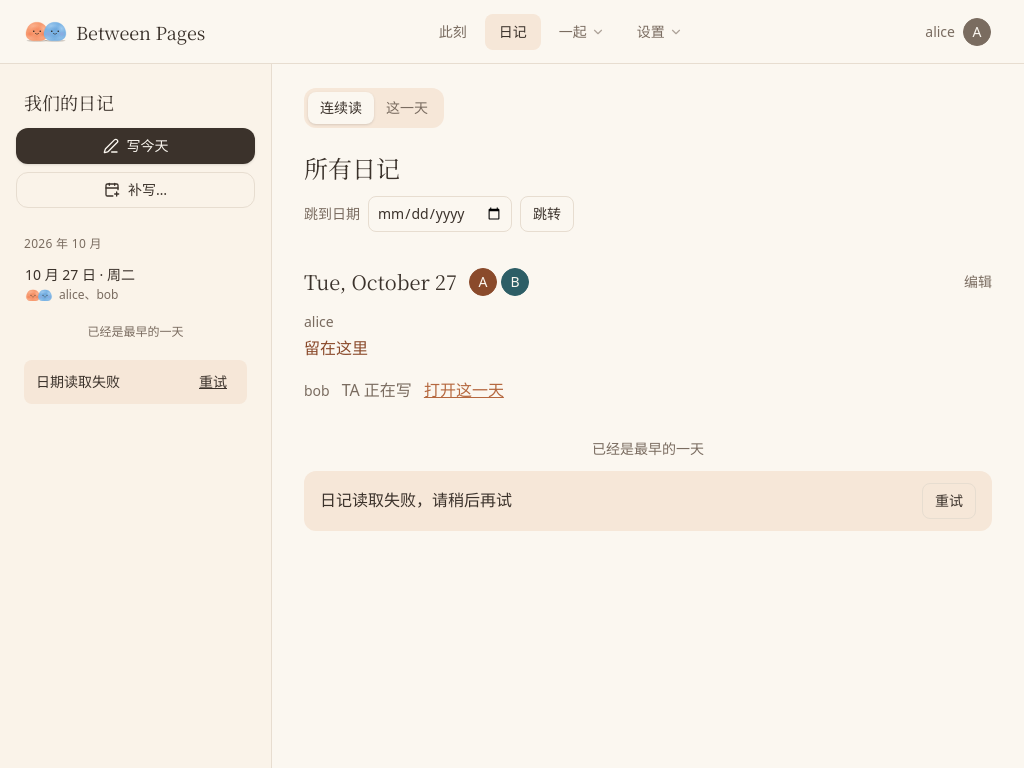
DayFeed › keeps the text but no list dots while the list cannot be read, and recovers with 重试
Expected: the message "日记读取失败，请稍后再试" is shown, [320,489,512,511]
Expected: the text "留在这里" is shown, [304,337,368,359]
Step 1. Click the button "重试" in the row of "日记读取失败，请稍后再试" → x=949, y=501, box [922,483,976,519]
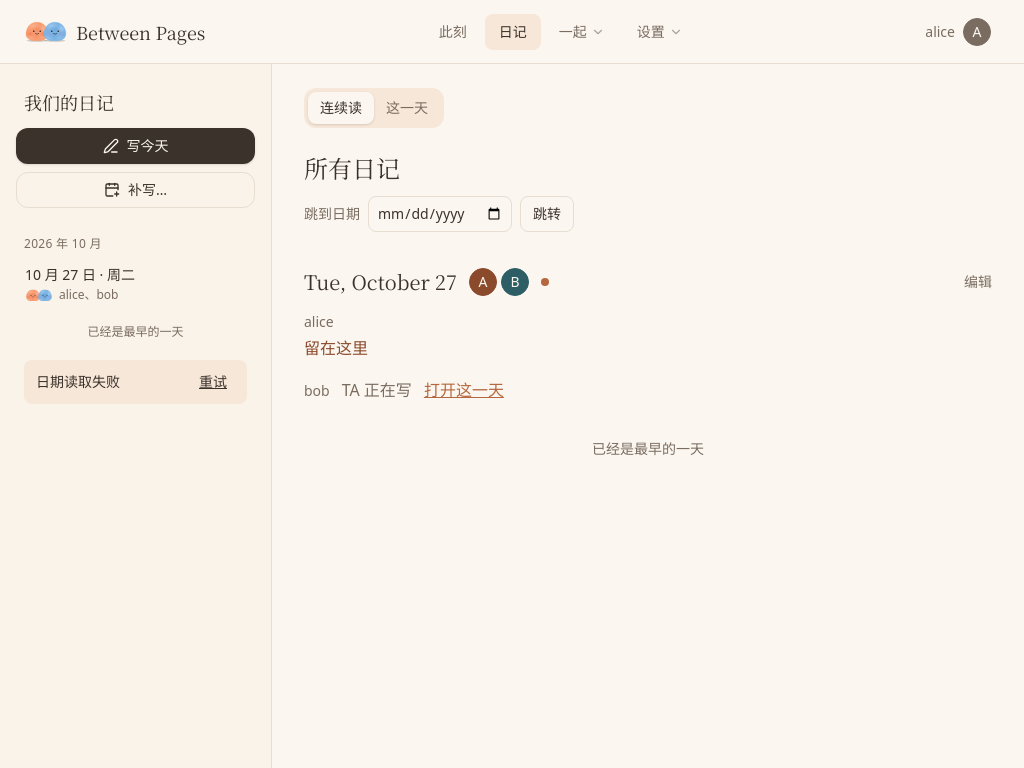
Expected: the picture named "有新内容" is shown, [541,278,549,286]
Expected: the message "日记读取失败，请稍后再试" is gone
